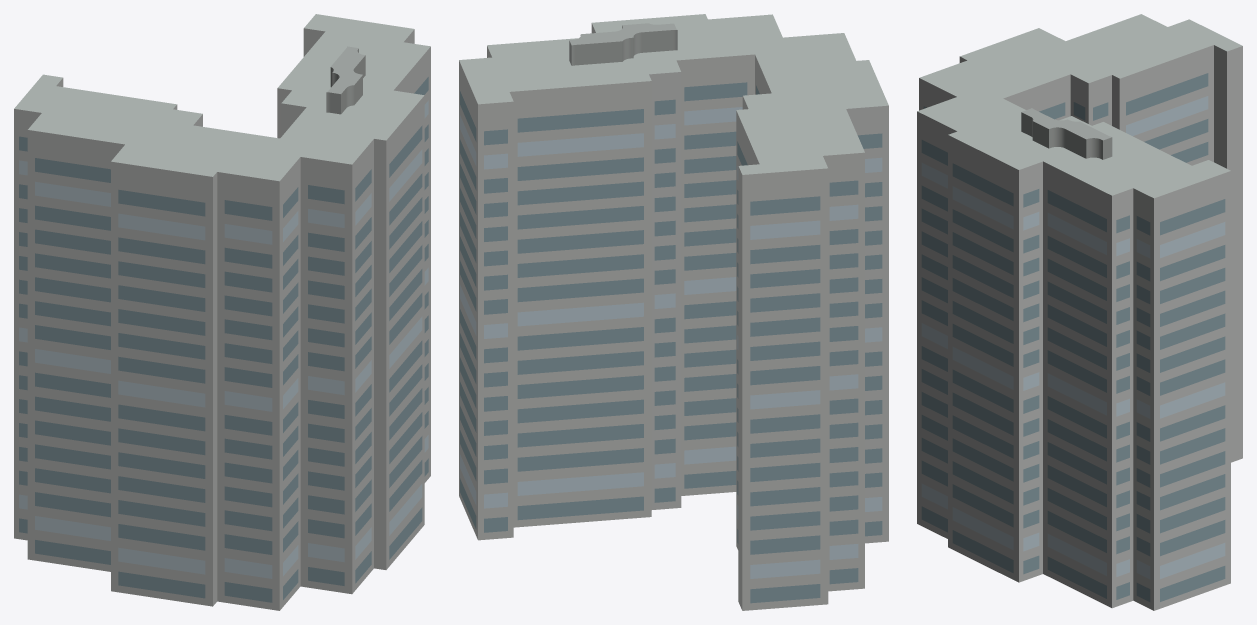
File: fallback-mapo-raemian-prugio-301.glb
3 views of the same model, side by side, from view 1: azimuth 30°, elevation 25°; view 2: azimuth 150°, elevation 25°; view 3: azimuth 270°, elevation 25° (orthographic). The views are drawn at different scales.
Parts seen in each view (by area): view 1: fallback-mapo-raemian-prugio-301; view 2: fallback-mapo-raemian-prugio-301; view 3: fallback-mapo-raemian-prugio-301.
Part boxes in pixels (x1=…): fallback-mapo-raemian-prugio-301: x1=14, y1=14, x2=430, y2=610; fallback-mapo-raemian-prugio-301: x1=459, y1=14, x2=888, y2=610; fallback-mapo-raemian-prugio-301: x1=917, y1=14, x2=1242, y2=610.
Bounding box in the file's own units: 47.61 × 52 × 35.53.
